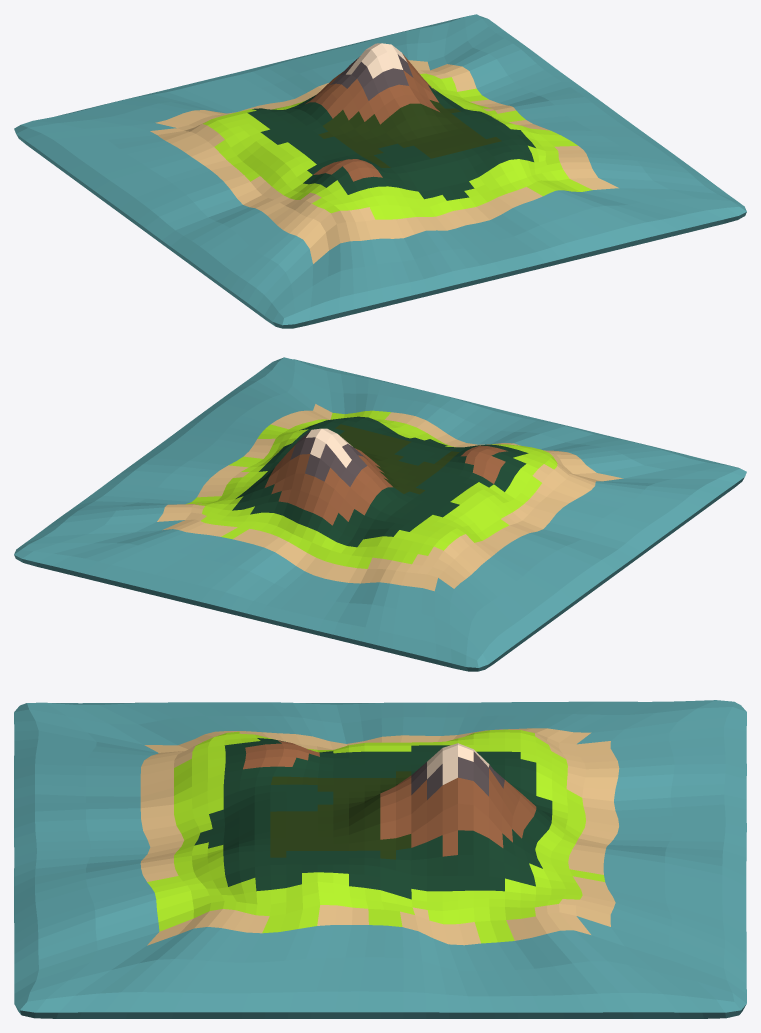
The model's file is map.fbx.
3 views of the same model, one above another, from view 1: azimuth 30°, elevation 25°; view 2: azimuth 150°, elevation 25°; view 3: azimuth 270°, elevation 25° (orthographic). The views are drawn at different scales.
Visible parts, largest first — view 1: Cube; view 2: Cube; view 3: Cube.
Boxes of the visible parts, <box> form: Cube: <box>14,14,746,328</box>; Cube: <box>14,357,746,671</box>; Cube: <box>14,700,746,1018</box>.
Bounding box in the file's own units: 3835 × 3836 × 831.
